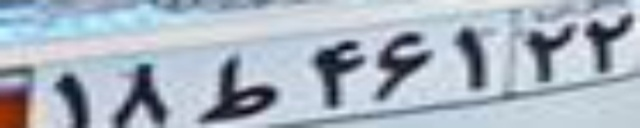1: (453, 26, 491, 89), (52, 71, 94, 127)
2: (580, 12, 637, 73), (523, 21, 571, 82)
4: (310, 39, 365, 108)
6: (375, 29, 435, 101)
8: (111, 62, 170, 127)
taa: (200, 51, 277, 123)
